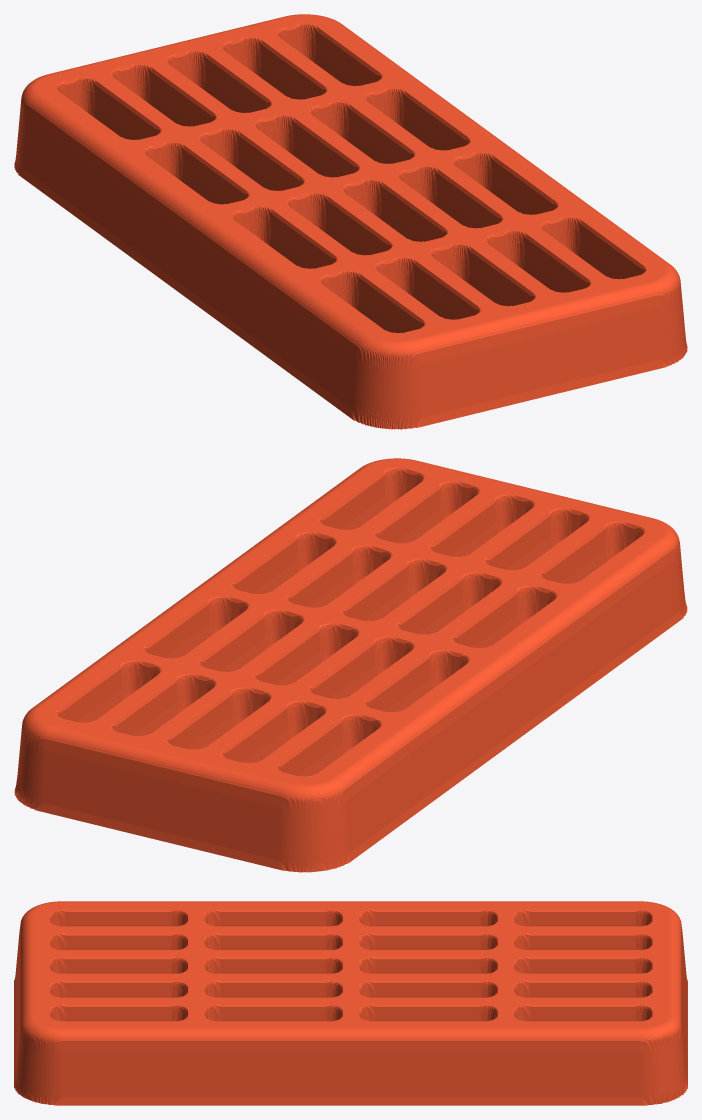
Rendered from mold.glb.
3 renders of one model, top to bottom at view 1: azimuth 30°, elevation 25°; view 2: azimuth 150°, elevation 25°; view 3: azimuth 270°, elevation 25°, orthographic. The views are drawn at different scales.
Visible parts, largest first — view 1: geometry_0; view 2: geometry_0; view 3: geometry_0.
Boxes of the visible parts, box(x1,y1,x2,y2) form: geometry_0: box(14, 14, 687, 429); geometry_0: box(14, 458, 687, 872); geometry_0: box(14, 901, 687, 1105).
Size of the model in its own units: 0.0636 by 0.0145 by 0.1278.
